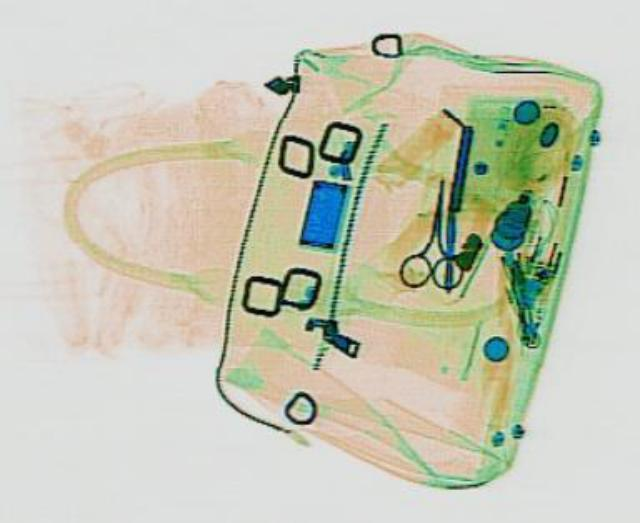Scissors: (394, 173, 476, 290)
